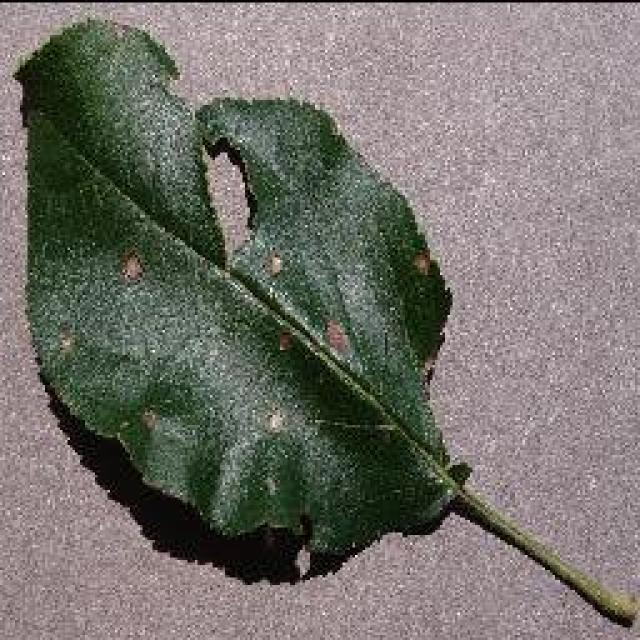Black_rot: (10, 15, 638, 627)
